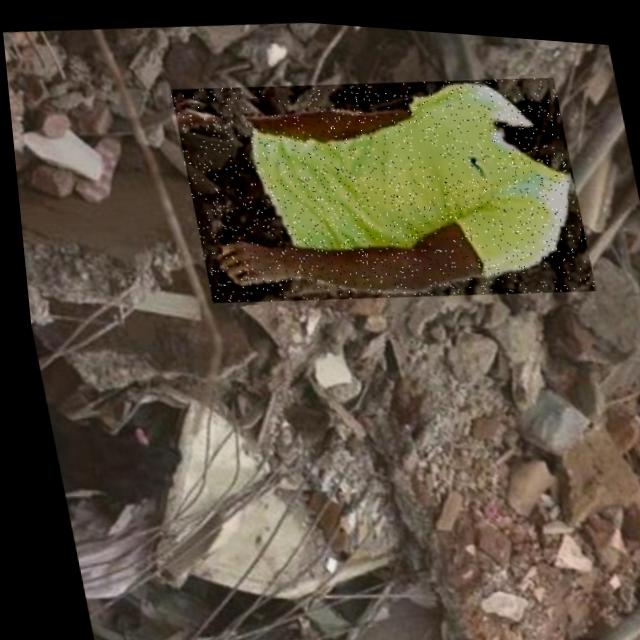Person in Rubble: (163, 46, 592, 323)
